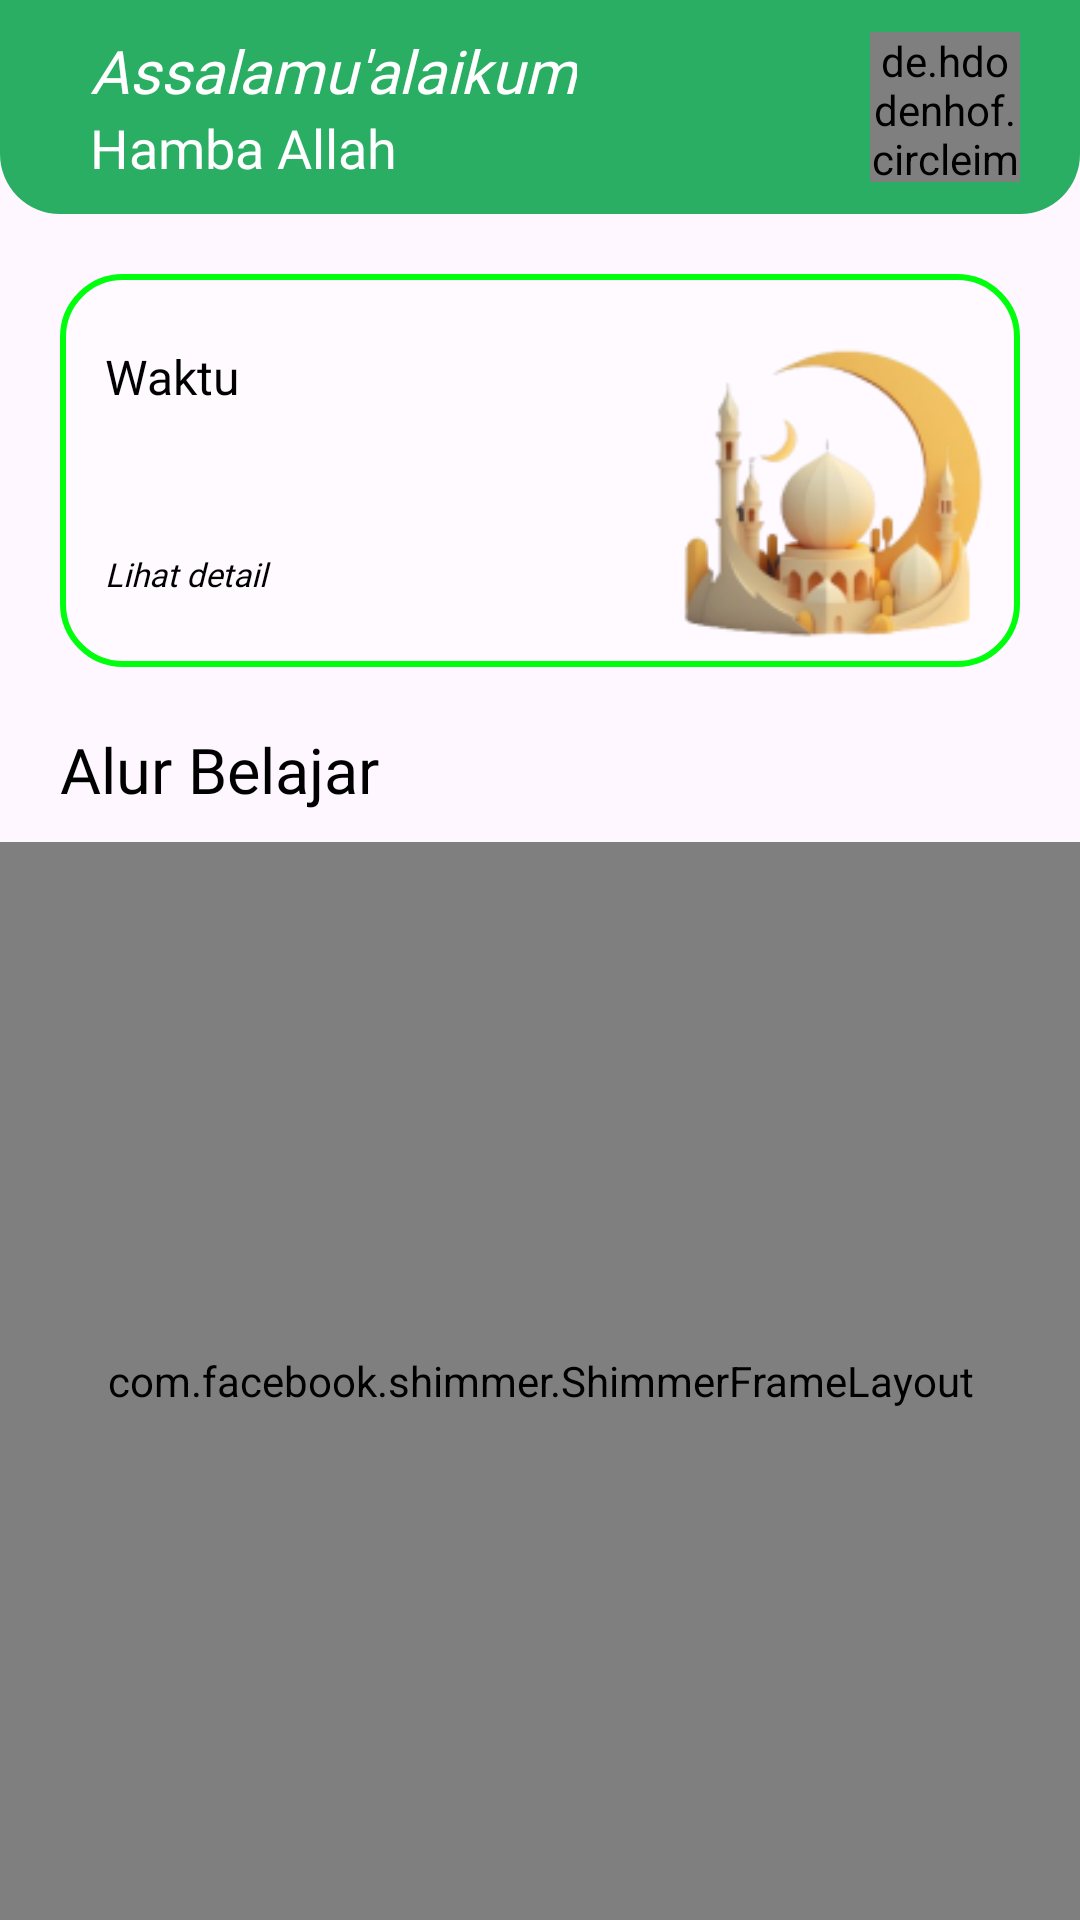

Icon bounding boxes for this 1080x1920 phone screenshot, format (x1, y1, x2, y2):
prayer: (684, 350, 983, 637)
